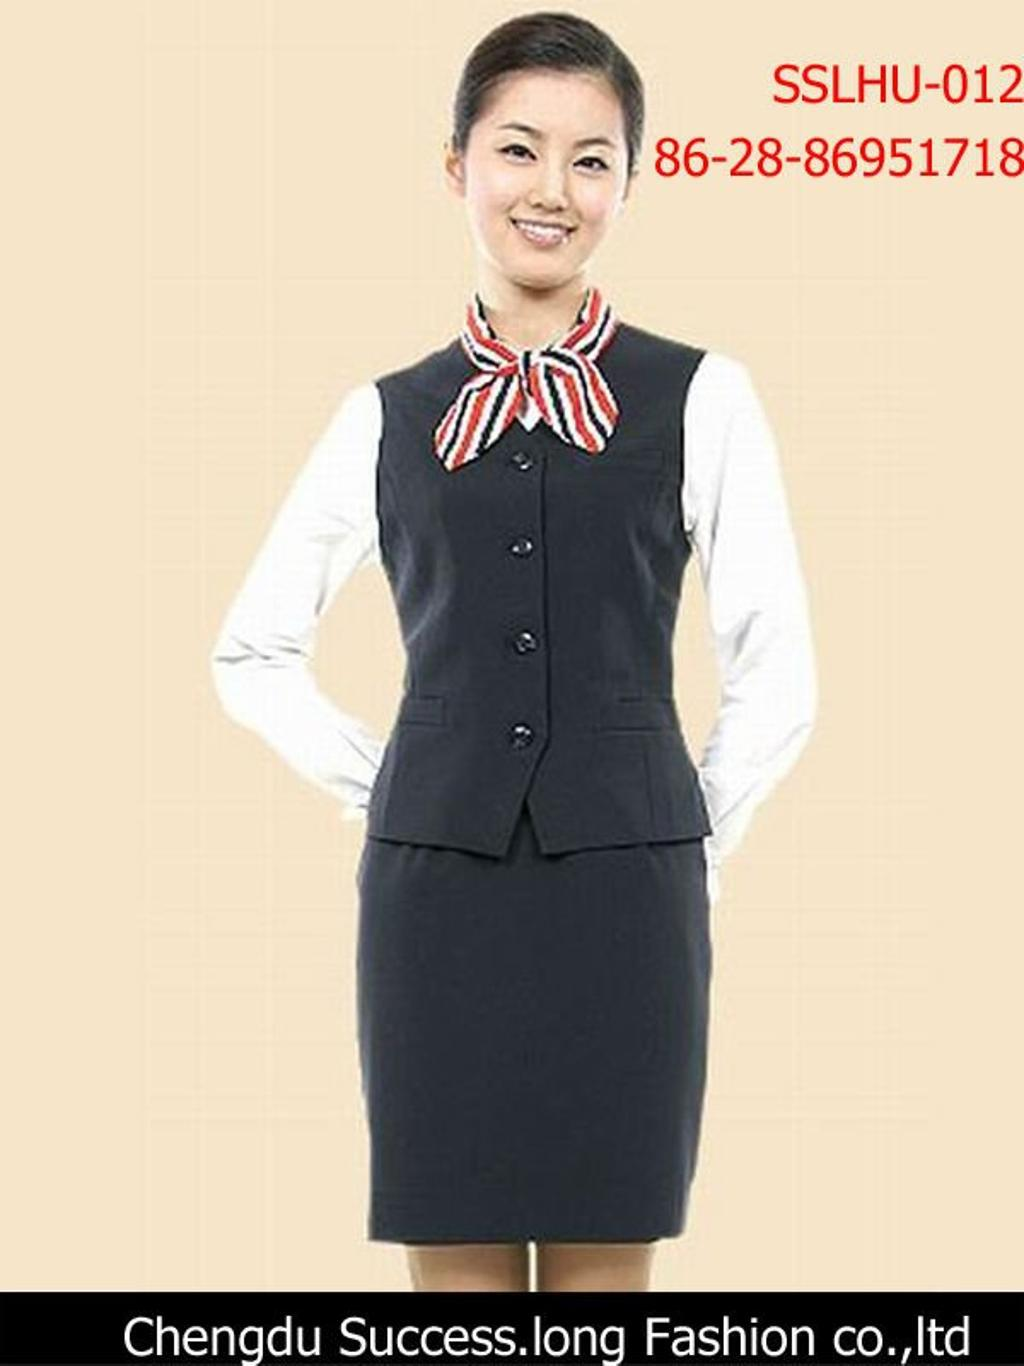face: (470, 73, 625, 286)
